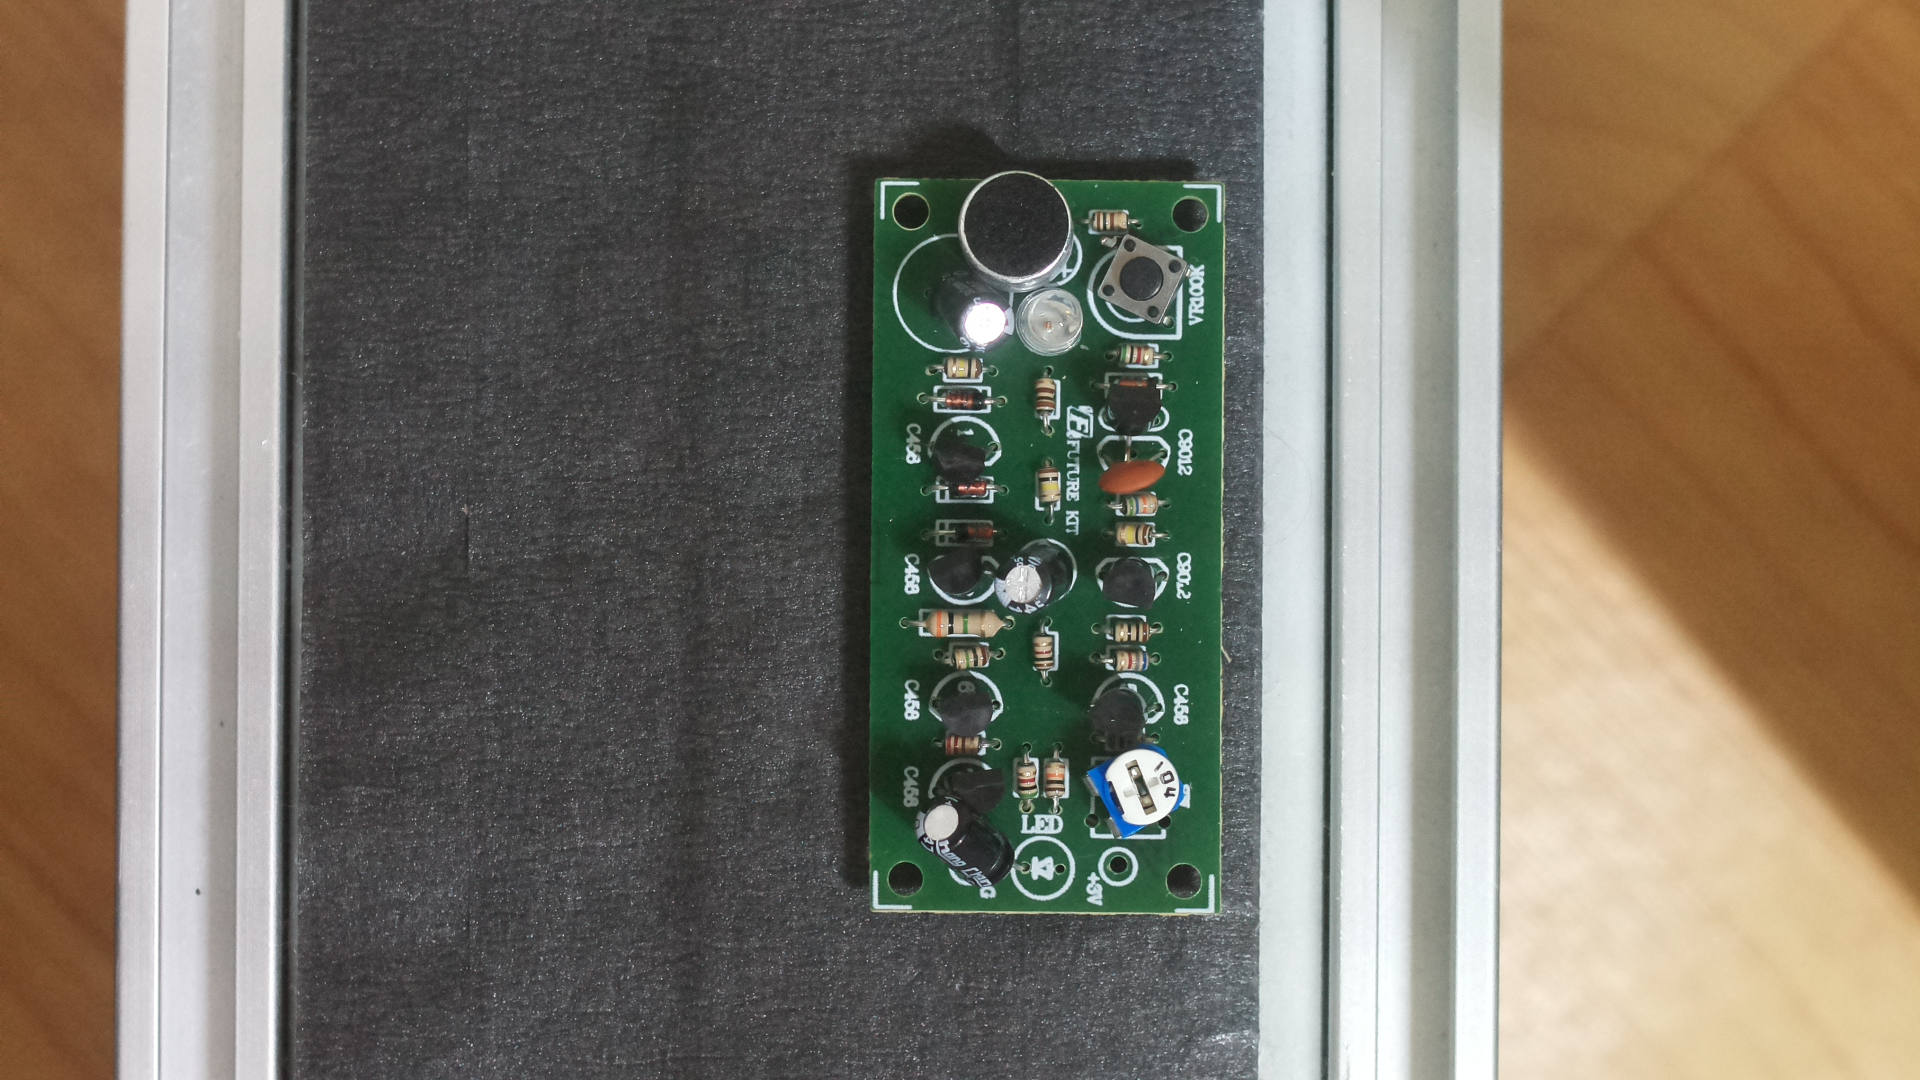A_Misordered: (857, 156, 1242, 940)
